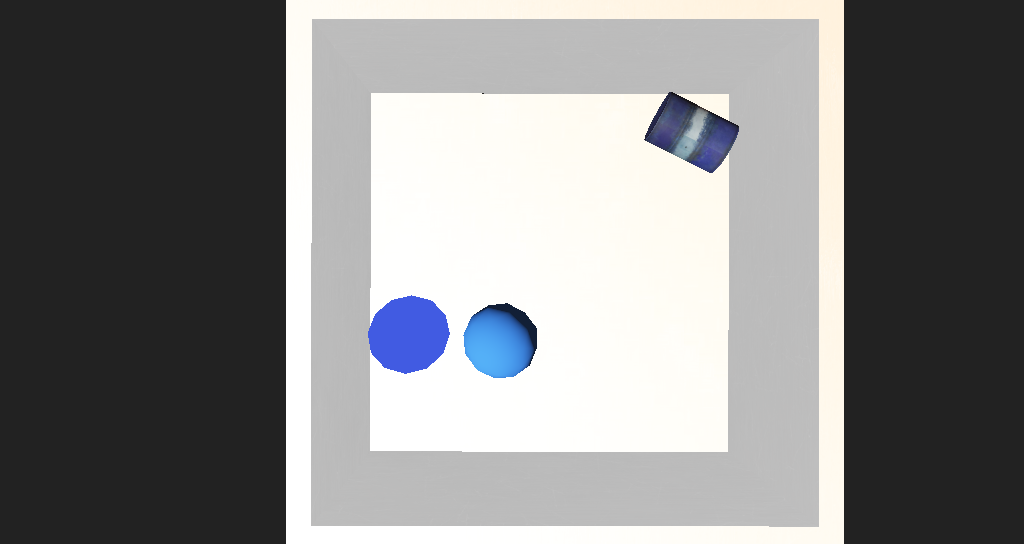cone: (583, 160, 670, 212)
cylinder: (354, 284, 428, 346)
sphere: (435, 289, 495, 332)
